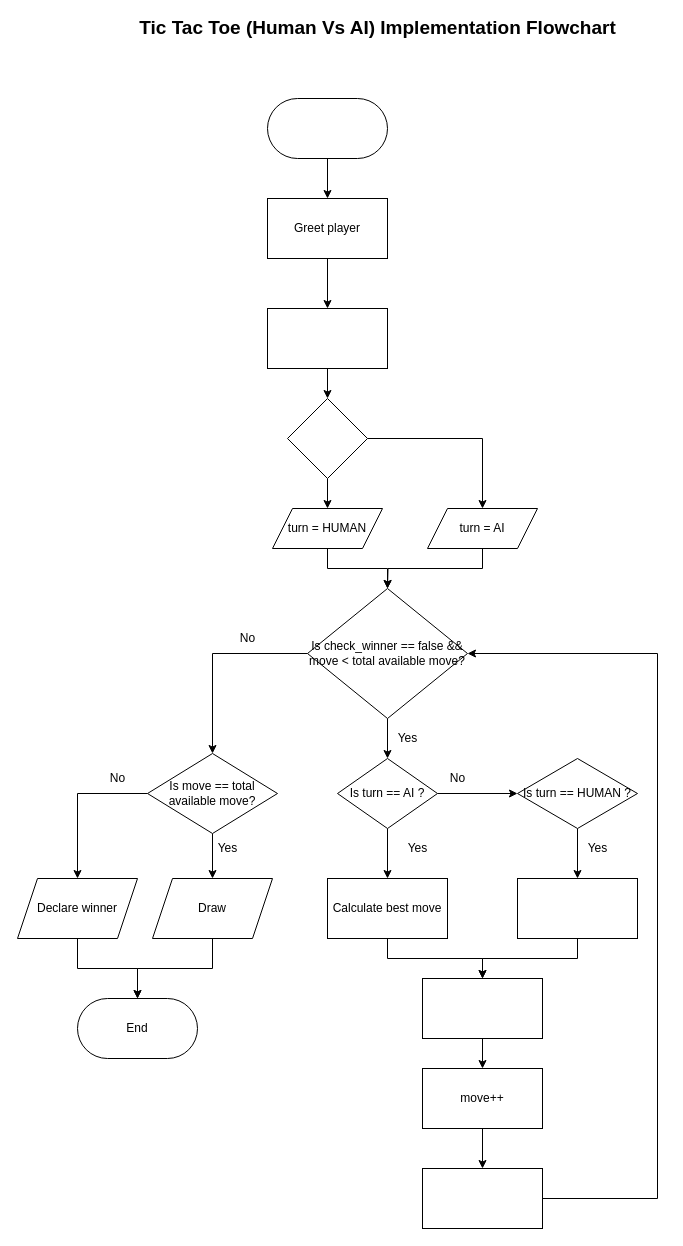
The diagram is 683 pixels wide and 1246 high, and some of its shapes have lost their labels. The box of each missing label's shape, as (x1, y1, x2, y2) in pixels:
Ask user input: (516, 878, 638, 938)
Display board: (266, 308, 388, 368)
Player place first?: (286, 398, 368, 478)
Start: (266, 98, 388, 158)
Take position on board: (422, 978, 542, 1038)
turn = {opponent} [AI or HUMAN]: (422, 1168, 542, 1228)
